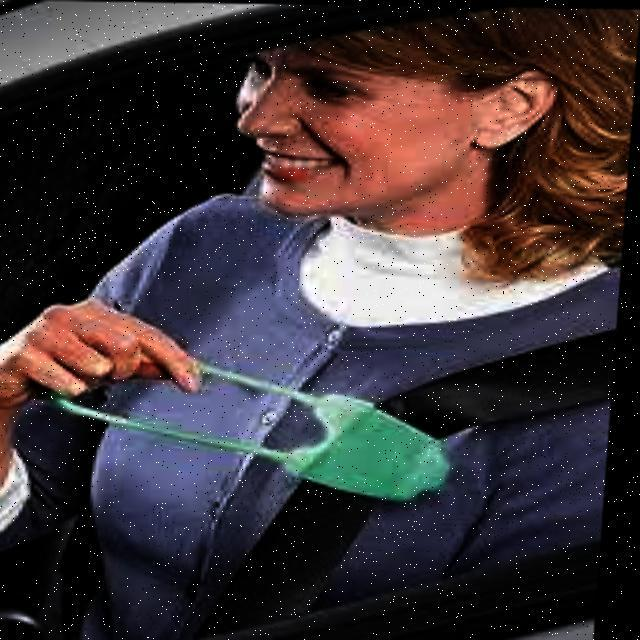seatbelt: (157, 242, 626, 632)
